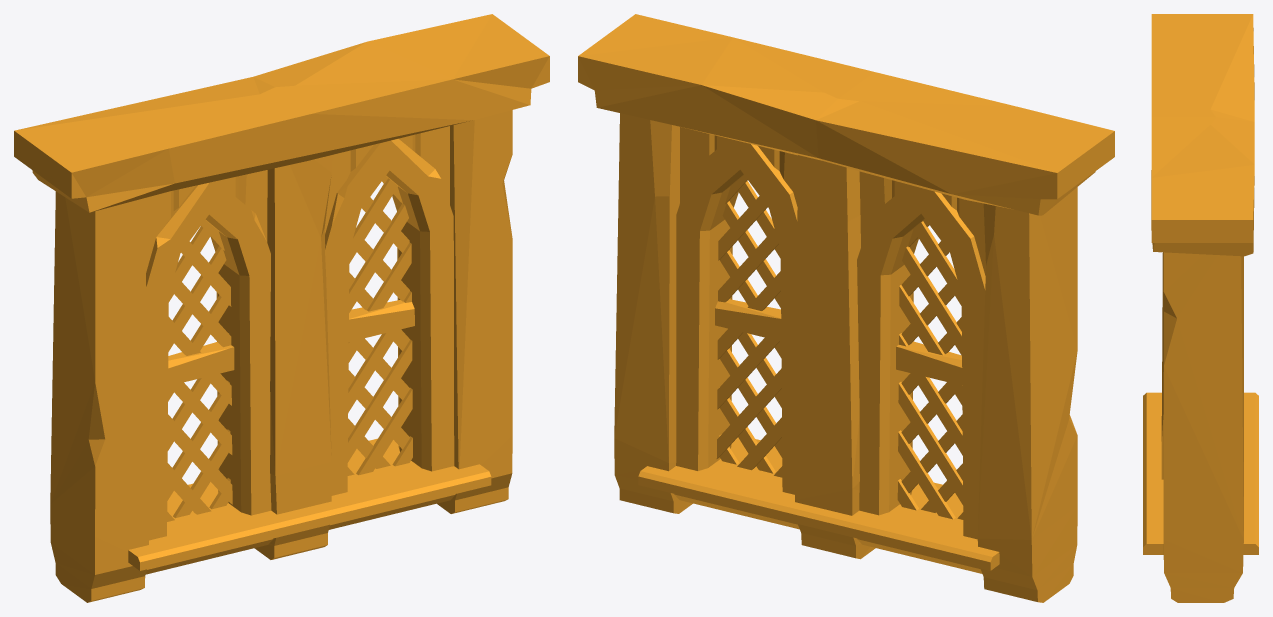
Rendered from SM_Window_Wood_Big_Fantasy.fbx.
The picture shows the model from 3 angles, left to right: view 1: azimuth 30°, elevation 25°; view 2: azimuth 150°, elevation 25°; view 3: azimuth 270°, elevation 25°; orthographic projection. The views are drawn at different scales.
Visible parts, largest first — view 1: SM_Window_Wood_Big_Fantasy; view 2: SM_Window_Wood_Big_Fantasy; view 3: SM_Window_Wood_Big_Fantasy.
Part boxes in pixels (bbox=[...]): SM_Window_Wood_Big_Fantasy: bbox=[14, 14, 549, 602]; SM_Window_Wood_Big_Fantasy: bbox=[578, 14, 1114, 602]; SM_Window_Wood_Big_Fantasy: bbox=[1143, 14, 1258, 602].
Bounding box in the file's own units: 2.48 × 2.23 × 0.5888.
